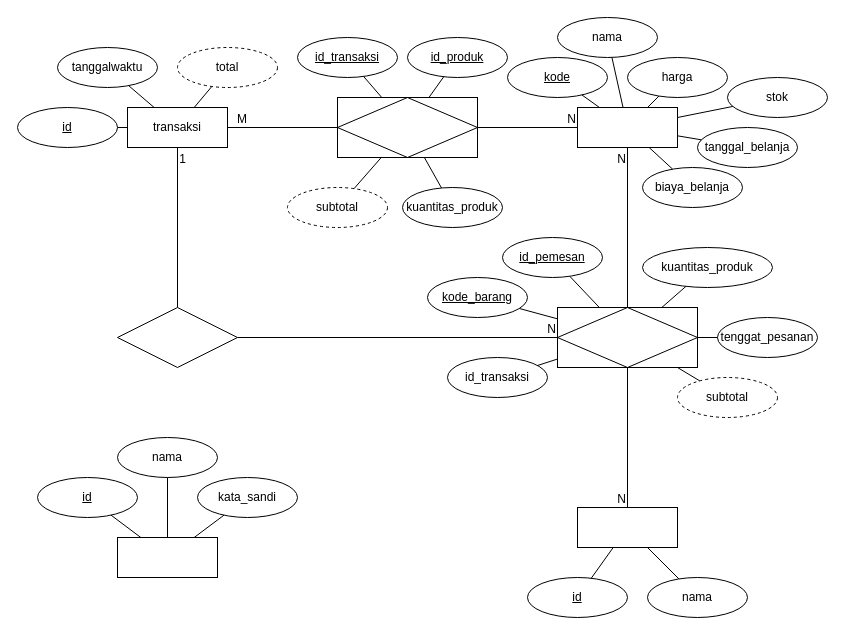
The diagram is 845 pixels wide and 635 high, and some of its shapes have lost their labels. Here are the shapes that lost their labels. From the top down, the centre of each, then its label:
(407,127): detail_transaksi
(627,127): barang
(177,337): memiliki
(627,337): pesanan
(627,527): pemesan
(167,557): akun
